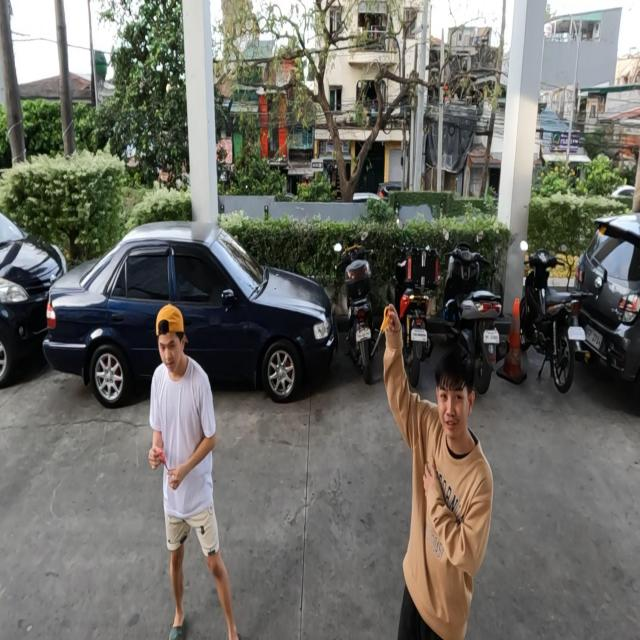scissor: (370, 305, 394, 358)
